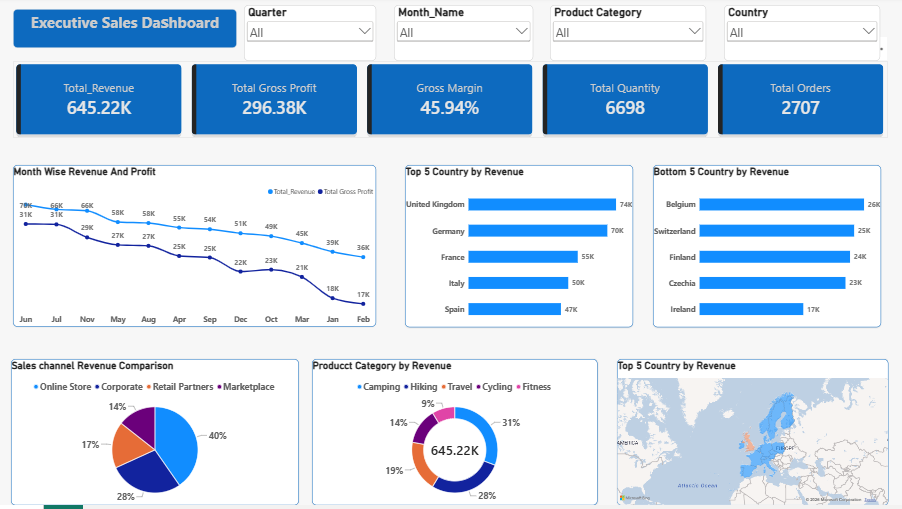

Layout of this report page (visuals, bound fields, positions):
{"tool":"powerbi","page":{"name":"Page 1","canvas":[1920,1080],"ordinal":0},"visuals":[{"type":"cardVisual","fields":{"Data":["All_Measures.Total_Revenue","All_Measures.Total Gross Profit","All_Measures.Gross Margin","All_Measures.Total Quantity","All_Measures.Total Orders"]},"box":[29.8,136.1,1860.2,163.7],"z":0},{"type":"textbox","box":[29.8,25.5,476.2,82.9],"z":1000},{"type":"slicer","fields":{"Values":["Date_Table.Month_Name"]},"box":[838.8,17,296,119.1],"z":2000},{"type":"slicer","fields":{"Values":["Date_Table.Quarter"]},"box":[520.9,17,281.1,119.1],"z":3000},{"type":"slicer","fields":{"Values":["Sales_Data.Product Category"]},"box":[1171.7,17,332.2,119.1],"z":4000},{"type":"slicer","fields":{"Values":["Sales_Data.Country"]},"box":[1540.8,17,332.2,119.1],"z":5000},{"type":"lineChart","title":"Month Wise Revenue And Profit","fields":{"Category":["Date_Table.Month_Name"],"Y":["All_Measures.Total_Revenue"],"Y2":["All_Measures.Total Gross Profit"]},"box":[29.8,357.2,771.7,344.4],"z":6000},{"type":"clusteredBarChart","title":"Top 5  Country by Revenue","fields":{"Category":["Sales_Data.Country"],"Y":["All_Measures.Total_Revenue"]},"box":[863.7,357.2,484.7,344.7],"z":7000},{"type":"clusteredBarChart","title":"Bottom 5 Country by Revenue","fields":{"Category":["Sales_Data.Country"],"Y":["All_Measures.Total_Revenue"]},"box":[1390.4,357.2,484.7,344.7],"z":8000},{"type":"pieChart","title":"Sales channel Revenue Comparison","fields":{"Category":["Sales_Data.Sales Channel"],"Y":["All_Measures.Total_Revenue"]},"box":[25.3,769,612.2,311.1],"z":9000},{"type":"donutChart","title":"Producct Category by Revenue","fields":{"Category":["Sales_Data.Product Category"],"Y":["All_Measures.Total_Revenue"]},"box":[665.3,769,607.1,311.1],"z":10000},{"type":"filledMap","title":"Top 5  Country by Revenue","fields":{"Category":["Sales_Data.Country"]},"box":[1312.9,769,576.8,311.1],"z":11000}]}

Visuals, with their boxes in screenshot pixels (x1, y1, x2, y2), scaled from the page's 1920x1080 canvas onto the 902x509 screenshot:
cardVisual - All_Measures.Total_Revenue x All_Measures.Total Gross Profit: detection(14, 64, 888, 141)
textbox: detection(14, 12, 238, 51)
slicer - Date_Table.Month_Name: detection(394, 8, 533, 64)
slicer - Date_Table.Quarter: detection(245, 8, 377, 64)
slicer - Sales_Data.Product Category: detection(550, 8, 707, 64)
slicer - Sales_Data.Country: detection(724, 8, 880, 64)
"Month Wise Revenue And Profit" lineChart: detection(14, 168, 377, 331)
"Top 5  Country by Revenue" clusteredBarChart: detection(406, 168, 633, 331)
"Bottom 5 Country by Revenue" clusteredBarChart: detection(653, 168, 881, 331)
"Sales channel Revenue Comparison" pieChart: detection(12, 362, 299, 508)
"Producct Category by Revenue" donutChart: detection(313, 362, 598, 508)
"Top 5  Country by Revenue" filledMap: detection(617, 362, 888, 508)
